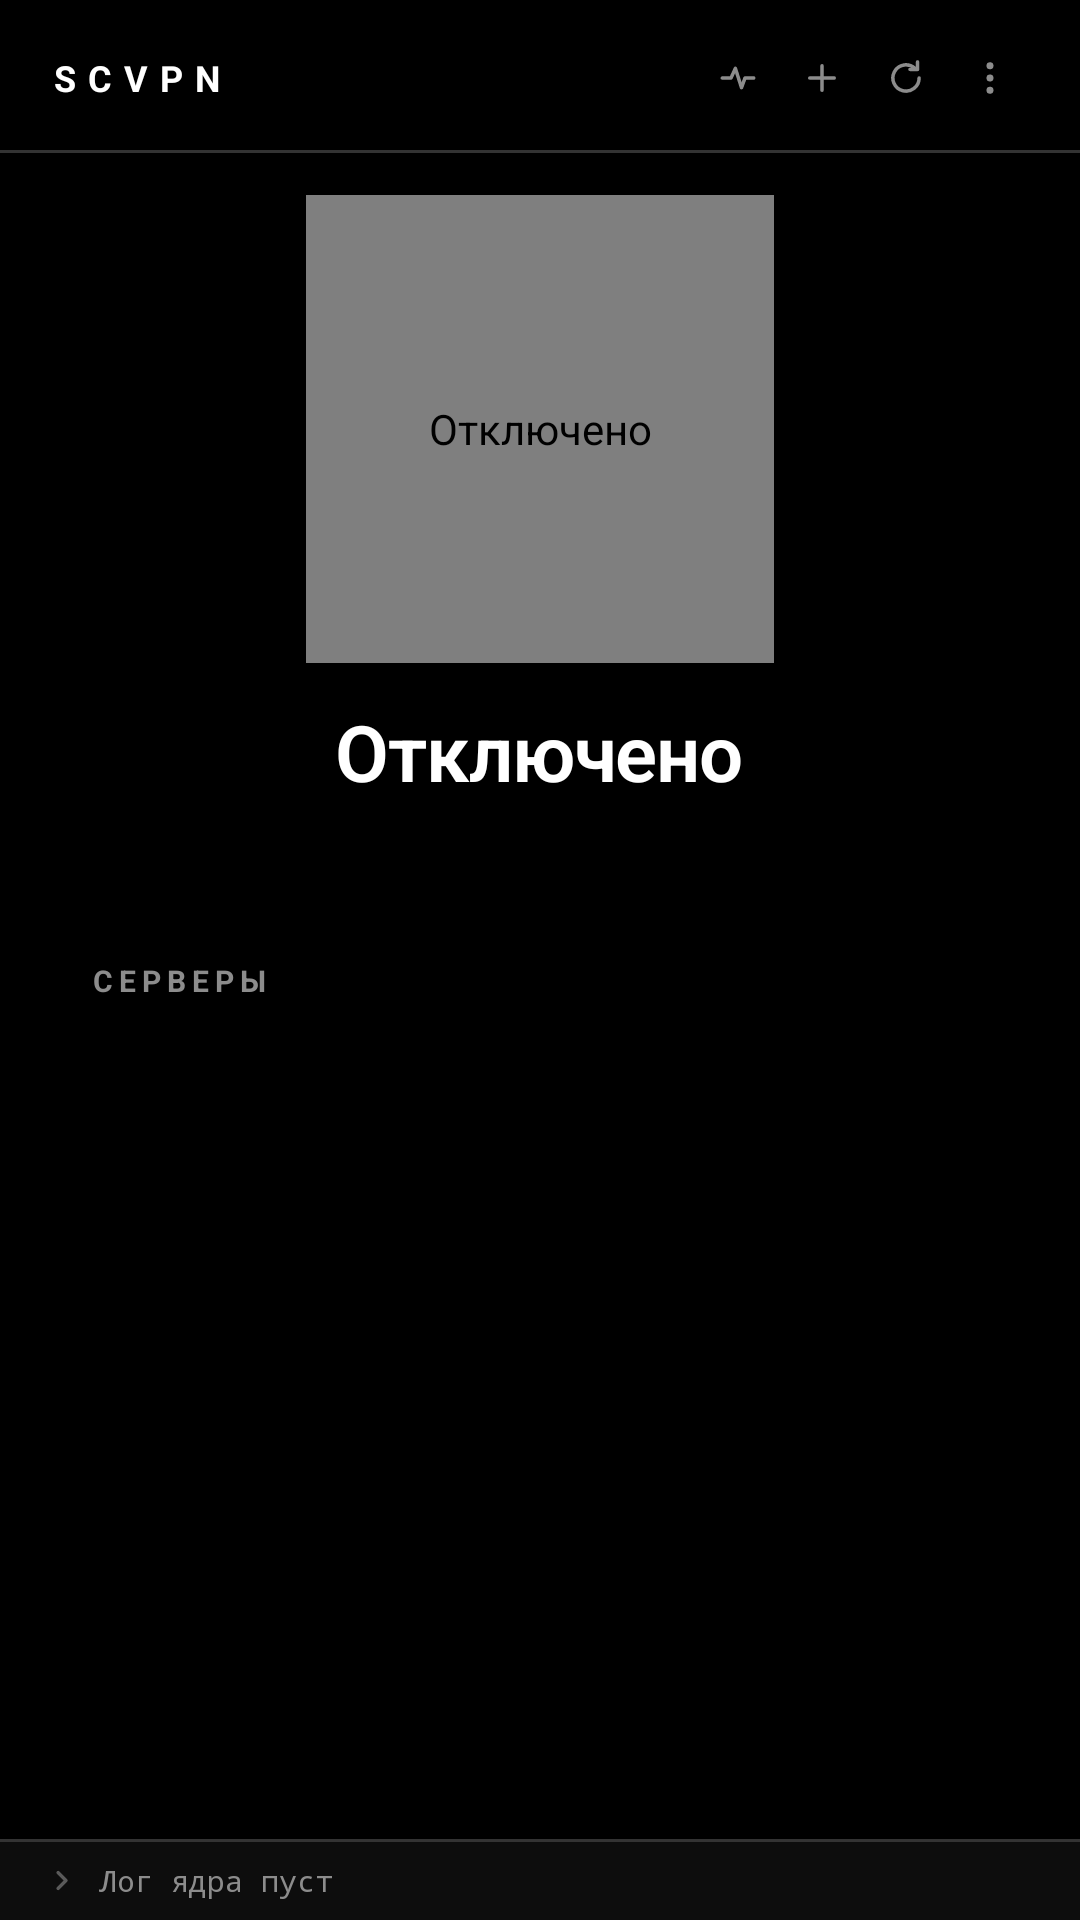

Icon click points for this 1080 × 1920 phone screenshot, format (x,y):
Добавить: (822,78)
Ещё: (990,78)
Обновить подписку: (906,76)
Пинг: (738,78)
